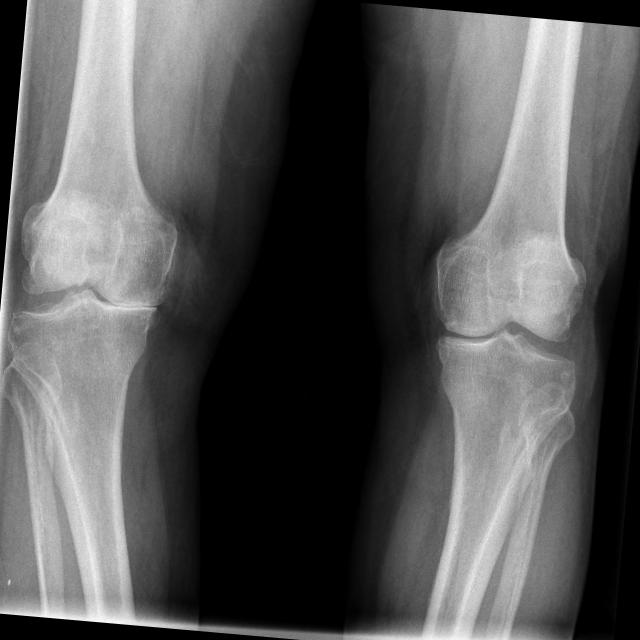Knee: (5, 198, 176, 382), (422, 245, 590, 414)
